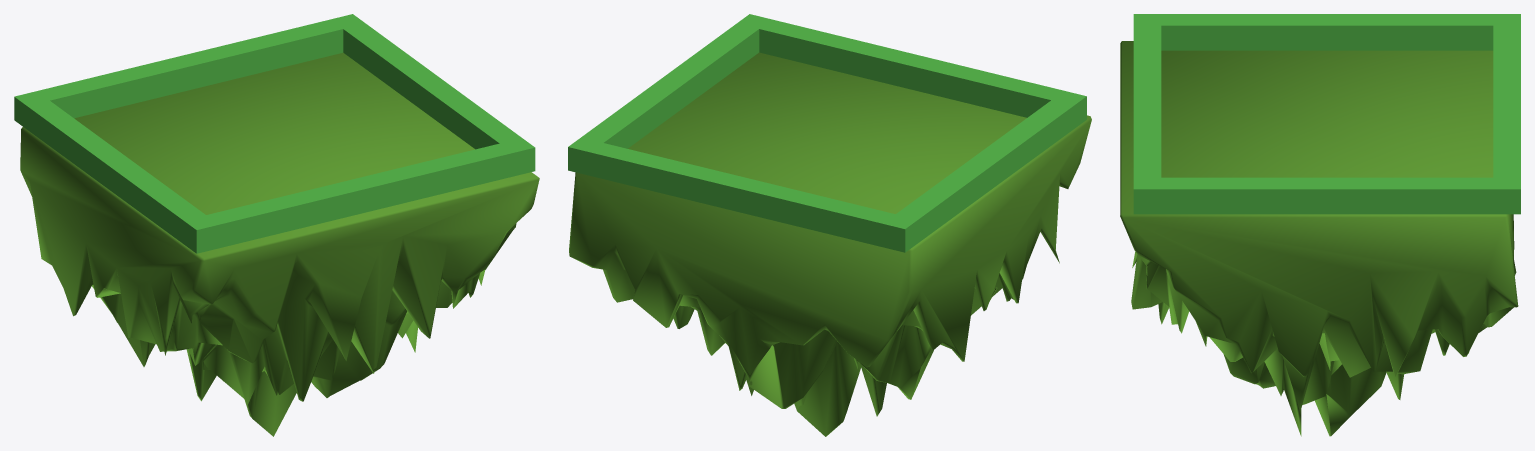
Rendered from platform.fbx.
The picture shows the model from 3 angles, left to right: view 1: azimuth 30°, elevation 25°; view 2: azimuth 150°, elevation 25°; view 3: azimuth 270°, elevation 25°; orthographic projection. The views are drawn at different scales.
Parts seen in each view (by area): view 1: 墙壁-底部, 墙壁-围墙; view 2: 墙壁-底部, 墙壁-围墙; view 3: 墙壁-底部, 墙壁-围墙.
Boxes of the visible parts, x1,y1,x2,y2 form: 墙壁-底部: (20, 52, 539, 436); 墙壁-围墙: (14, 14, 535, 253); 墙壁-底部: (569, 52, 1091, 436); 墙壁-围墙: (568, 14, 1086, 252); 墙壁-底部: (1120, 41, 1518, 436); 墙壁-围墙: (1133, 14, 1520, 214).
Bounding box in the file's own units: 15.17 × 13.36 × 14.49.
